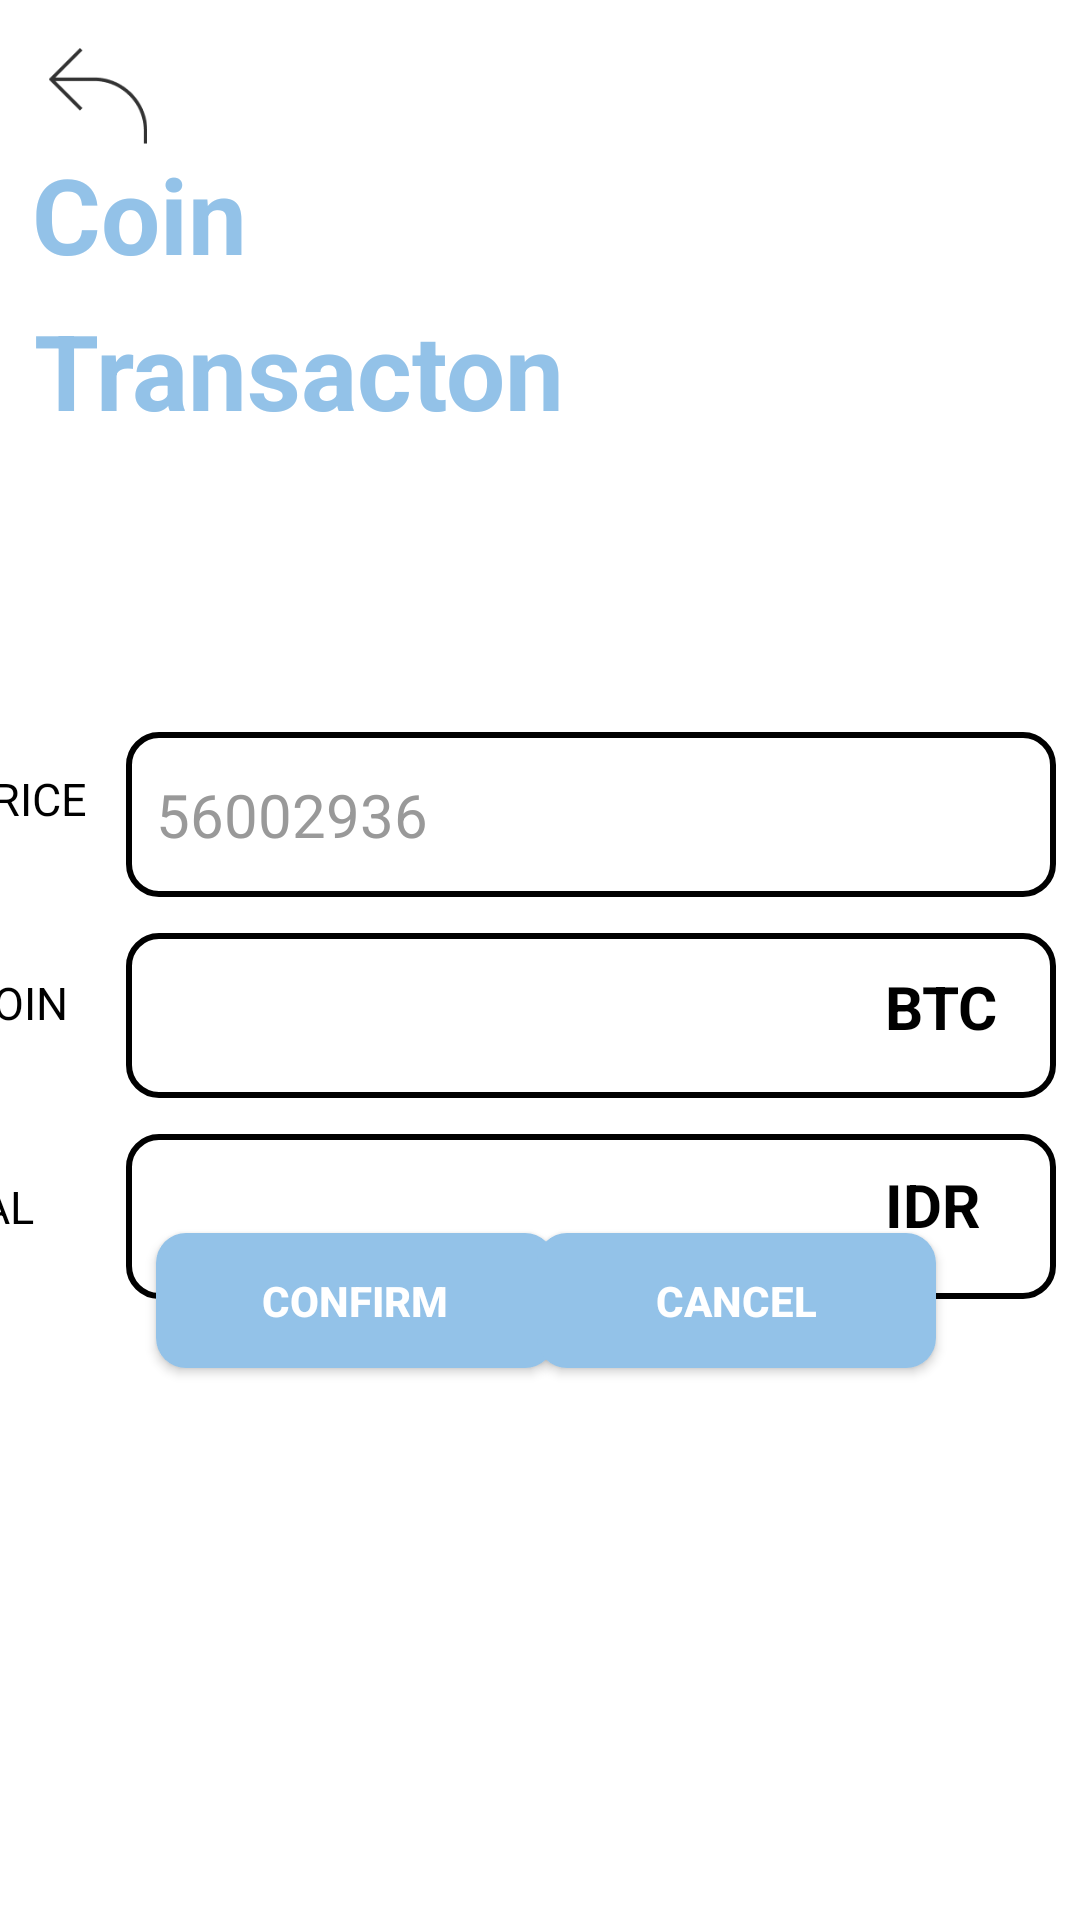

Icon click points for this 1080px×1920px phone screenshot, format [x,y]:
icback: [98,96]
